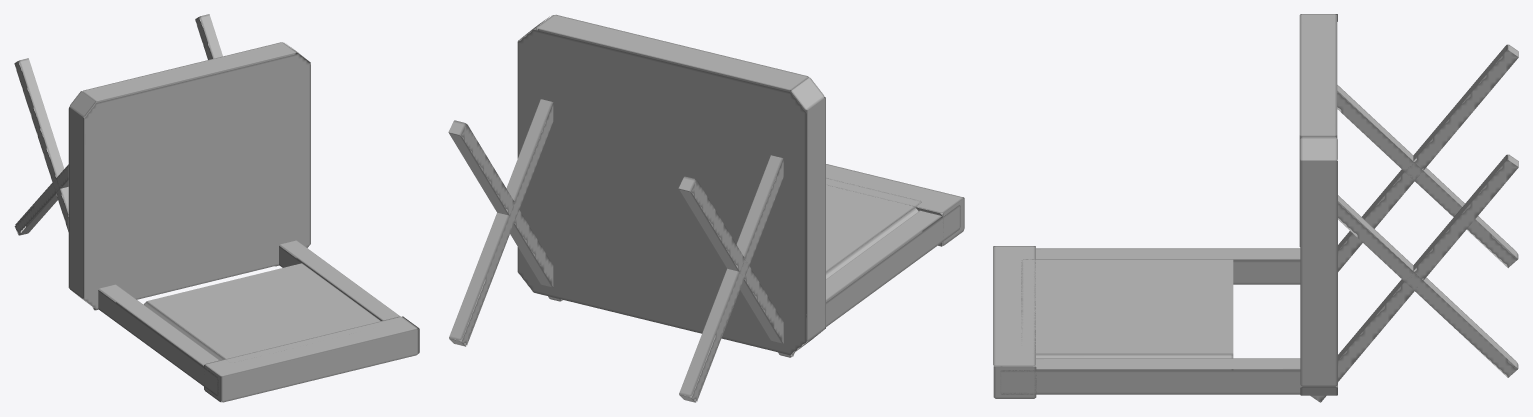
File: pz_chair_seating_indoor_01_folding.obj
3 views of the same model, side by side, from view 1: azimuth 30°, elevation 25°; view 2: azimuth 150°, elevation 25°; view 3: azimuth 270°, elevation 25° (orthographic). The views are drawn at different scales.
Bounding box in the file's own units: 0.64 × 0.5835 × 1.03.
1 material, 1 textured.
